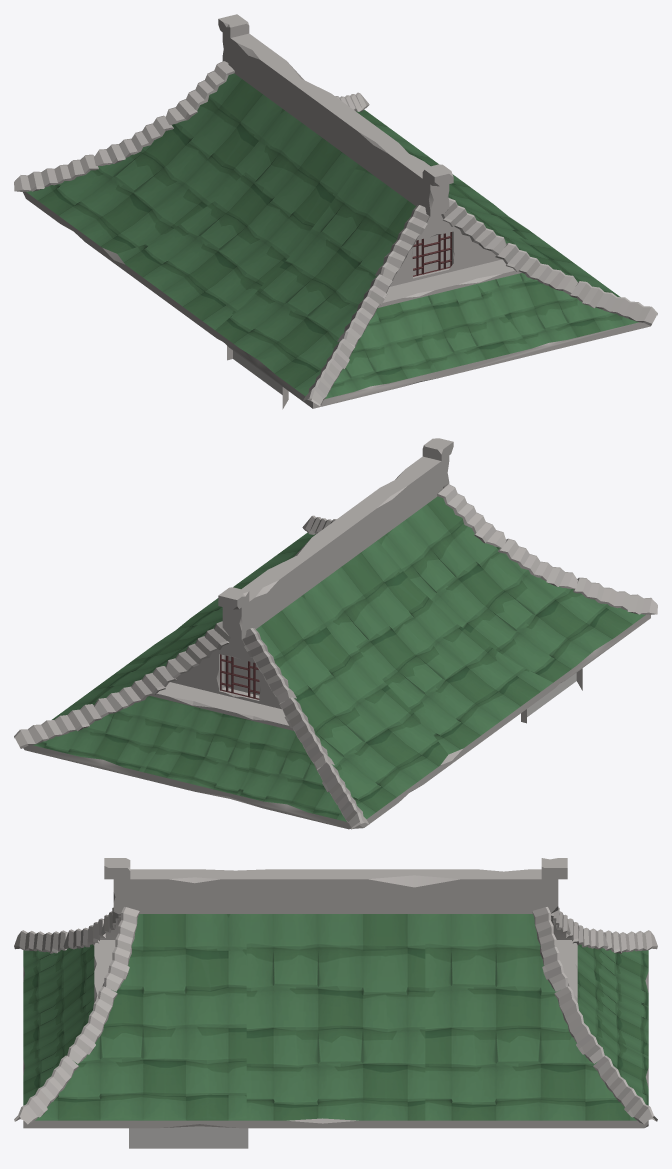
File: SM_Env_Roof_16.fbx
3 views of the same model, one above another, from view 1: azimuth 30°, elevation 25°; view 2: azimuth 150°, elevation 25°; view 3: azimuth 270°, elevation 25° (orthographic). The views are drawn at different scales.
Parts seen in each view (by area): view 1: SM_Env_Roof_16; view 2: SM_Env_Roof_16; view 3: SM_Env_Roof_16.
Part boxes in pixels (box(x1,y1,x2,y2)): SM_Env_Roof_16: box(14, 14, 657, 409); SM_Env_Roof_16: box(14, 438, 657, 829); SM_Env_Roof_16: box(14, 858, 657, 1148).
Bounding box in the file's own units: 258 × 144 × 379.
Materials: 1 (1 with a texture image).
